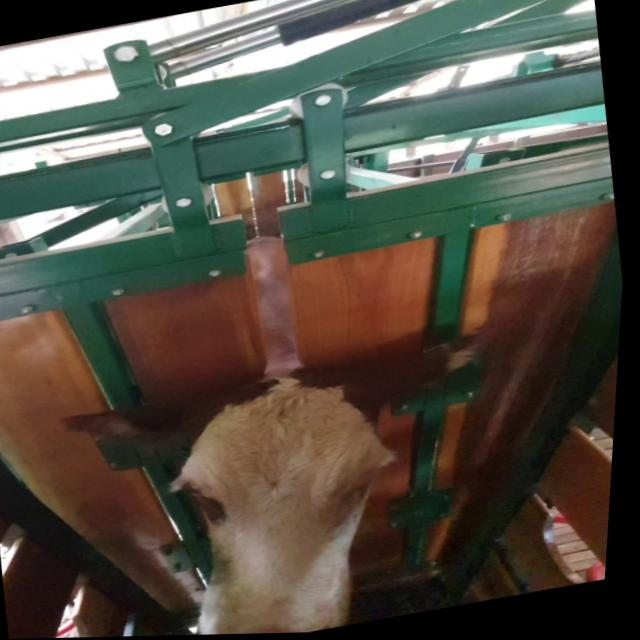cowFace: (167, 363, 428, 637)
